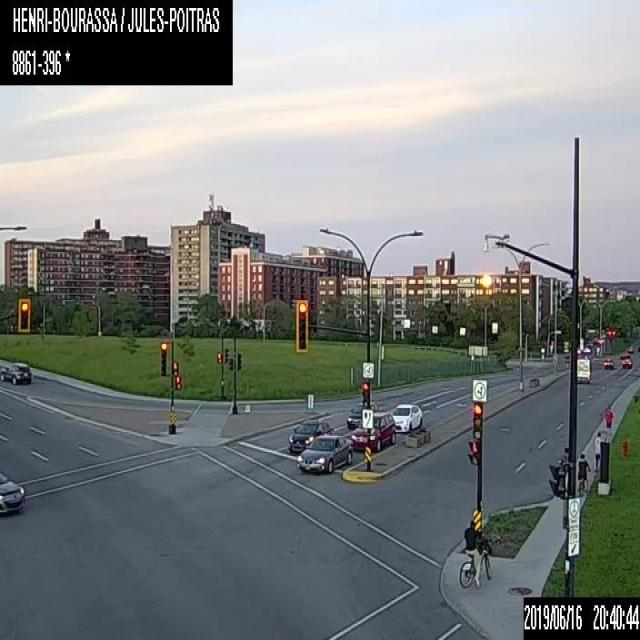cyclist: (456, 519, 493, 589), (575, 451, 592, 500)
pedestrian: (591, 429, 602, 472), (602, 402, 613, 434)
vehicle: (295, 434, 353, 475), (350, 410, 395, 450), (286, 418, 333, 456), (0, 468, 25, 516), (389, 402, 421, 430), (346, 401, 378, 428), (0, 360, 32, 384), (576, 354, 589, 382), (602, 355, 614, 369), (622, 355, 631, 368), (626, 344, 632, 352)
